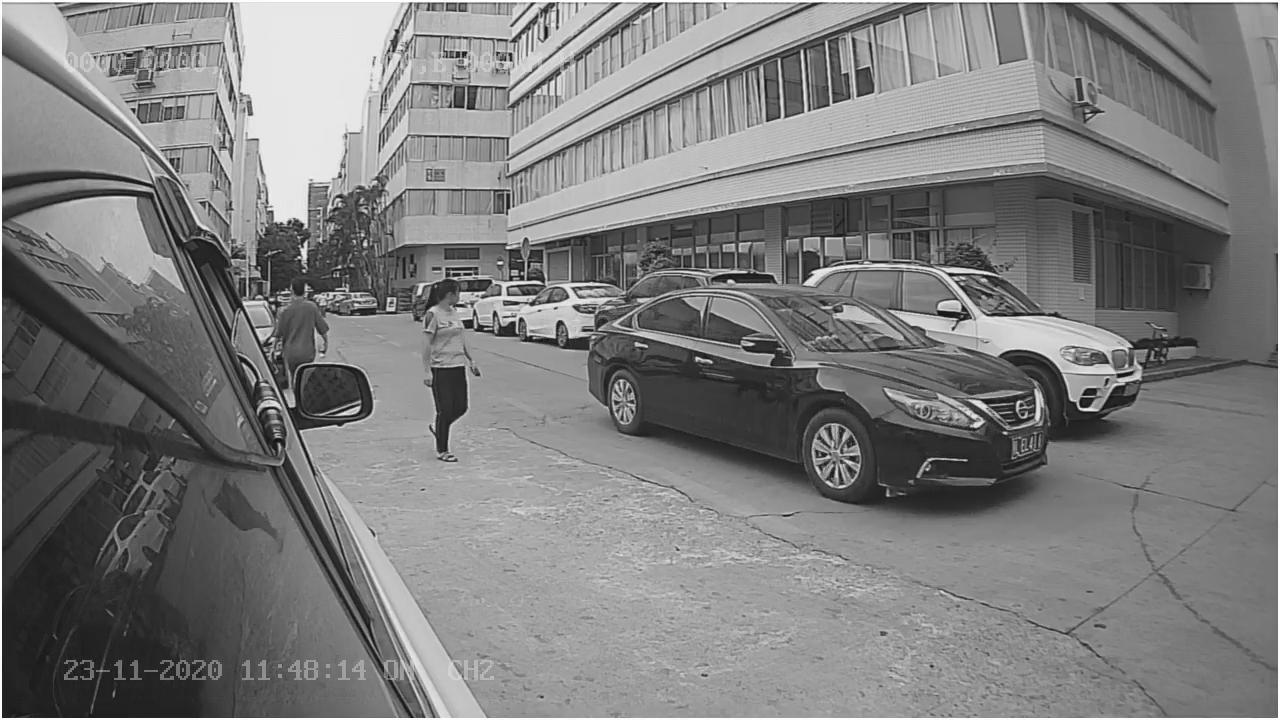person: (416, 280, 482, 459)
